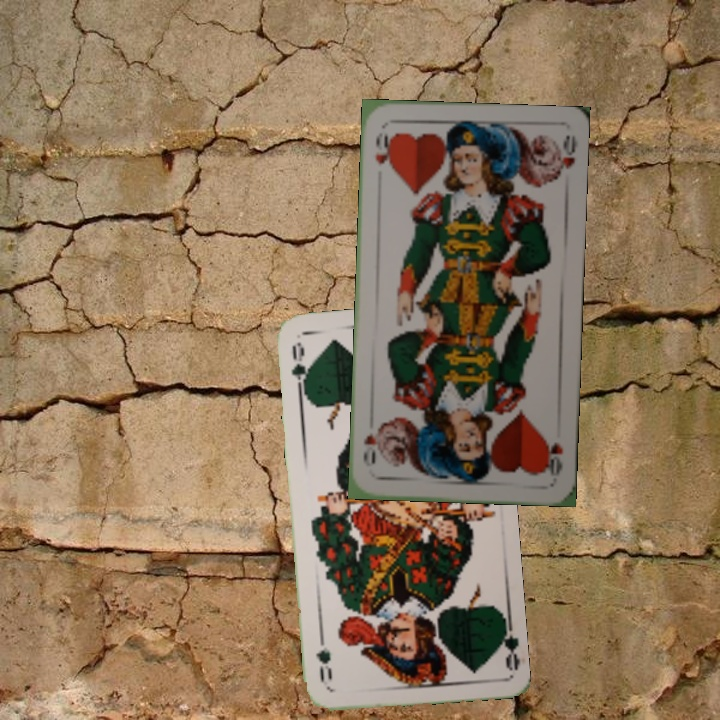GO: (493, 612, 521, 672), (287, 338, 312, 397)
HO: (541, 433, 565, 479), (371, 128, 394, 173)
